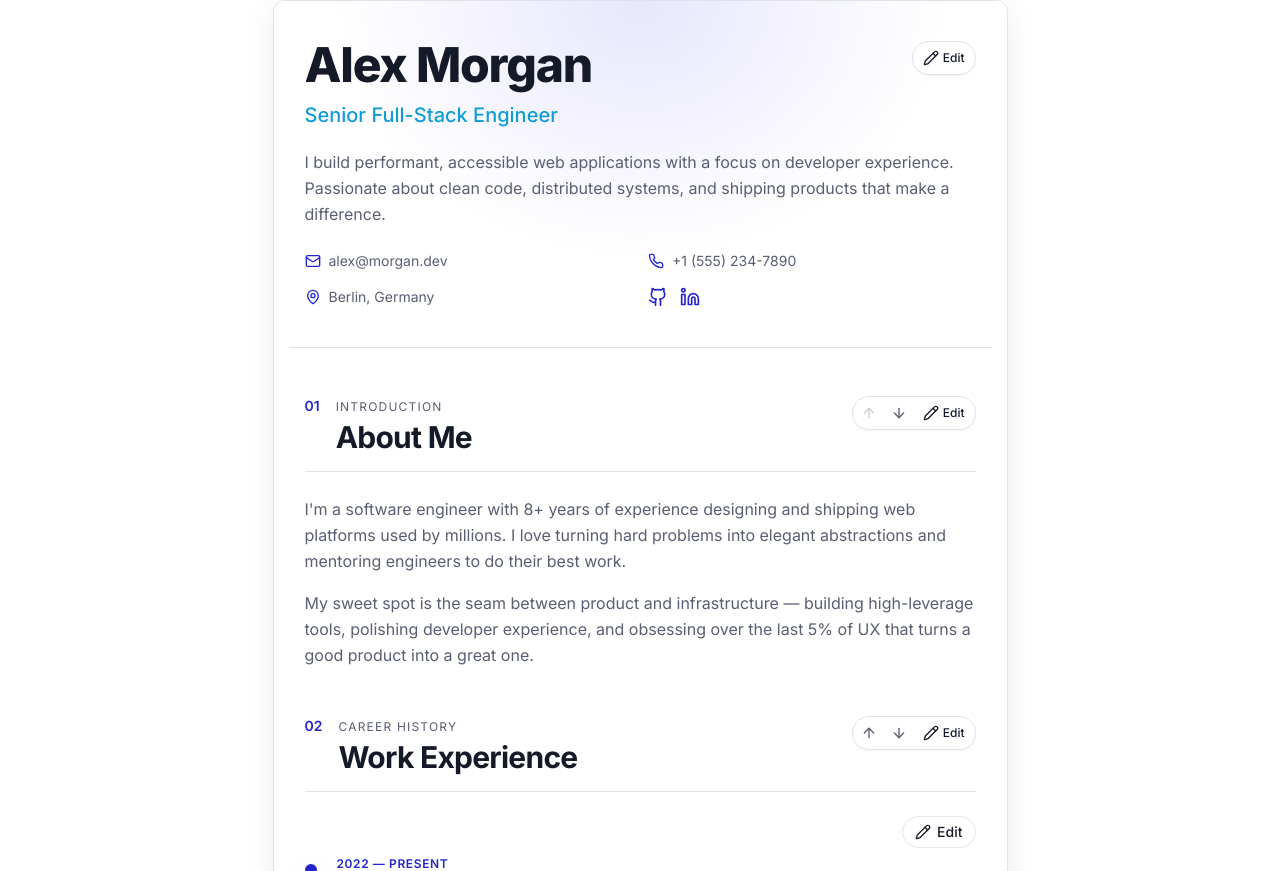
individual experience and education editing › edits only the chosen entry and can cancel changes
Click the 4th button "Edit": (939, 832) [902,816,976,848]
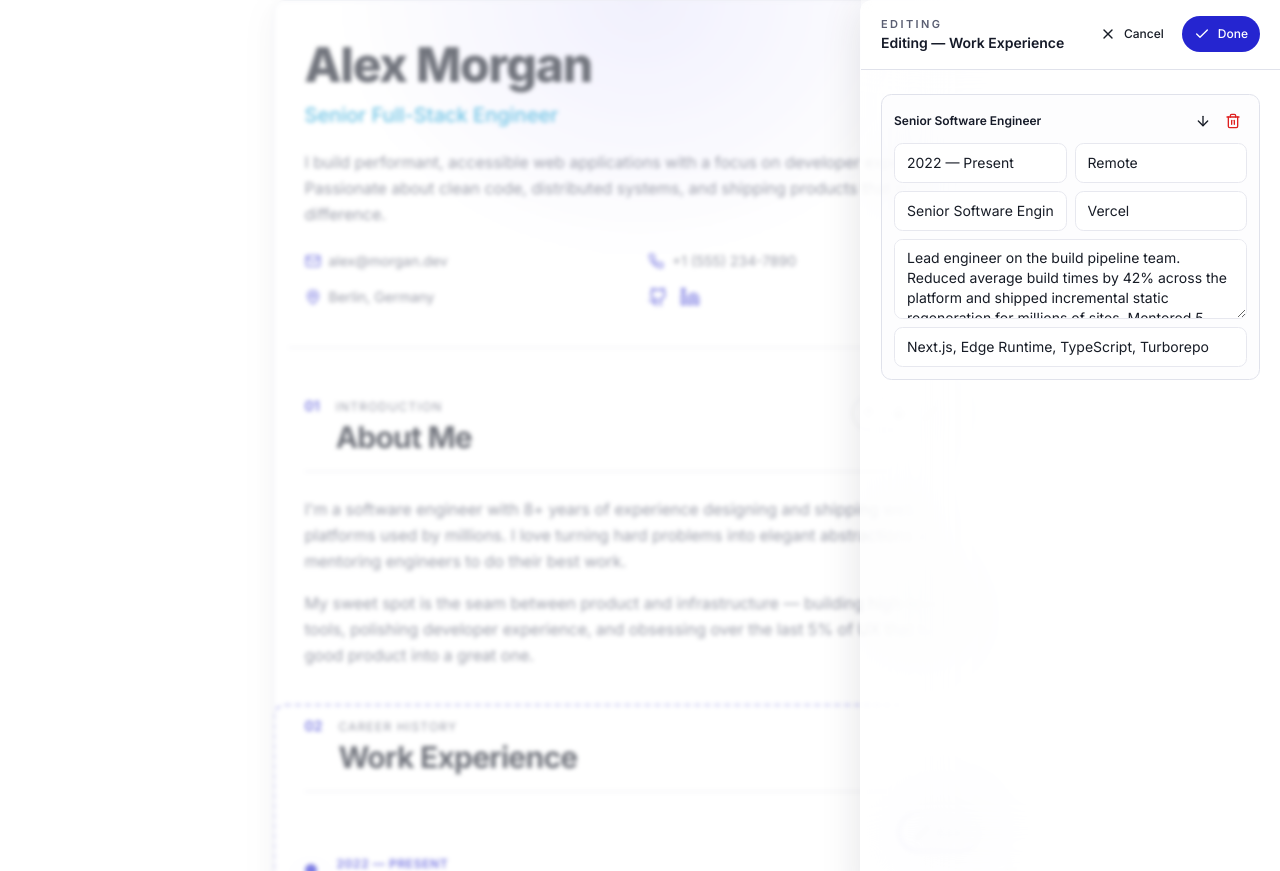
Expected: the field showing "Stripe" is not shown
Now the 4th field showing "Vercel" is shown
Replace the text in the 4th field with placeholder "Company" with "Example Corp": (1161, 210) [1074,190,1247,230]
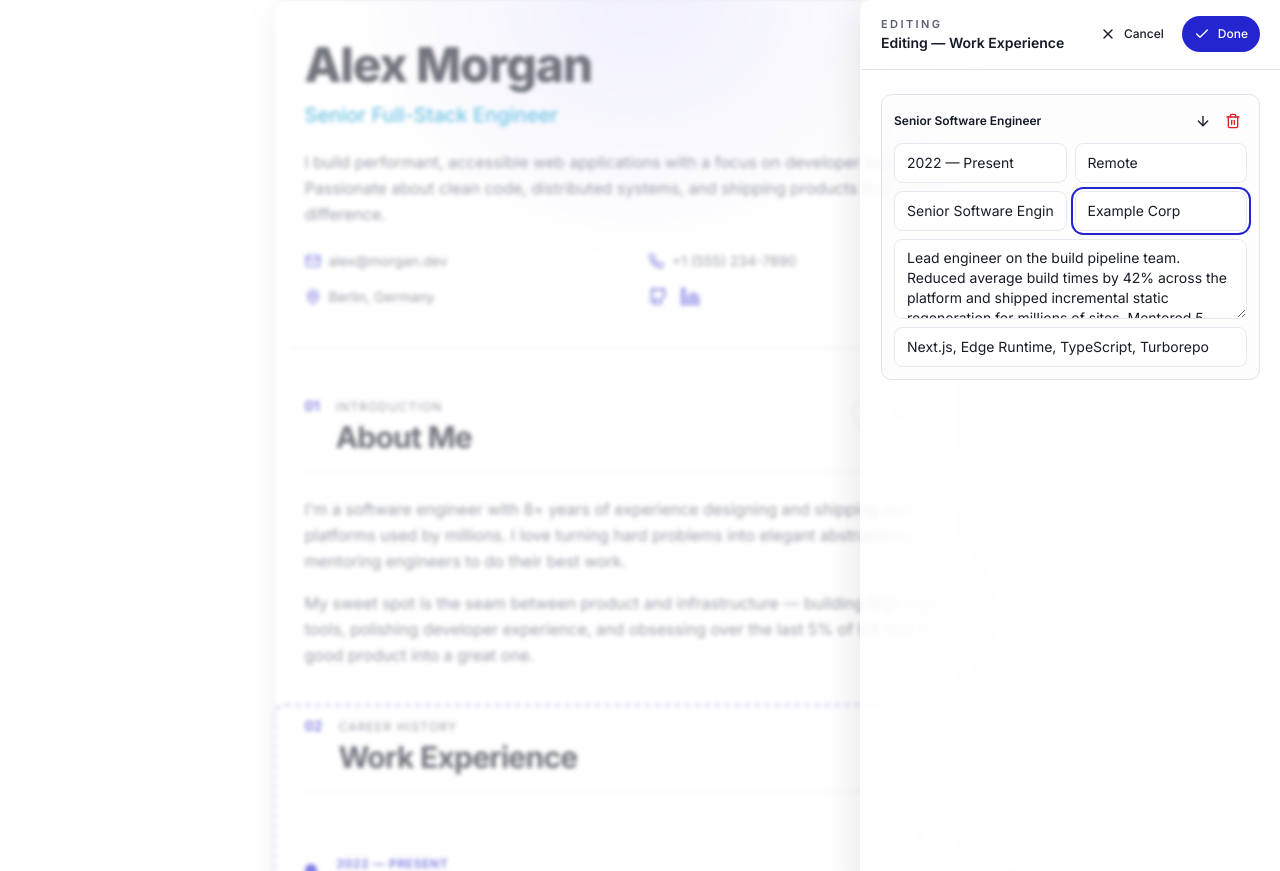
Click the button "Cancel": (1132, 34) [1088,16,1176,52]
(page scrolled)
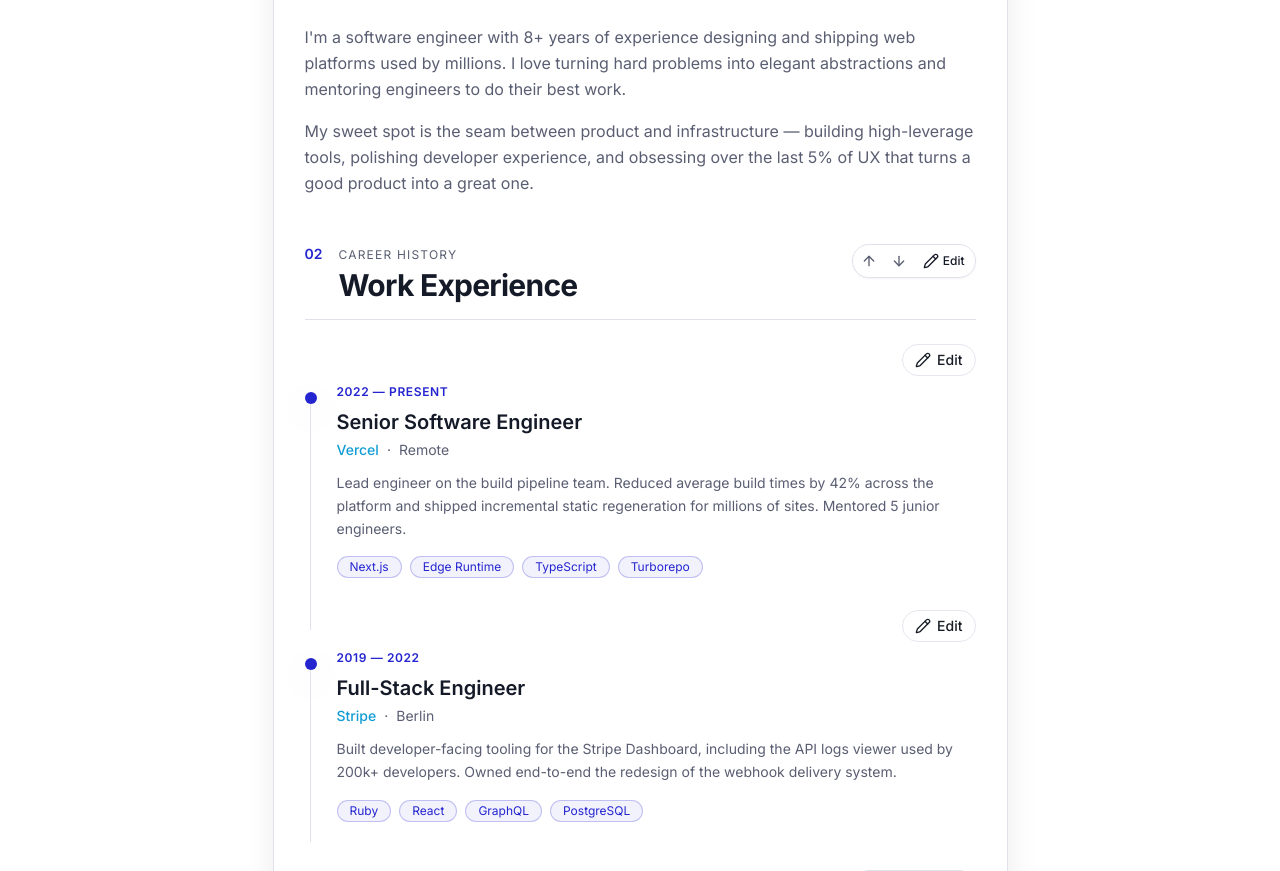
Now the text "Vercel" is shown, box [336,440,379,460]
